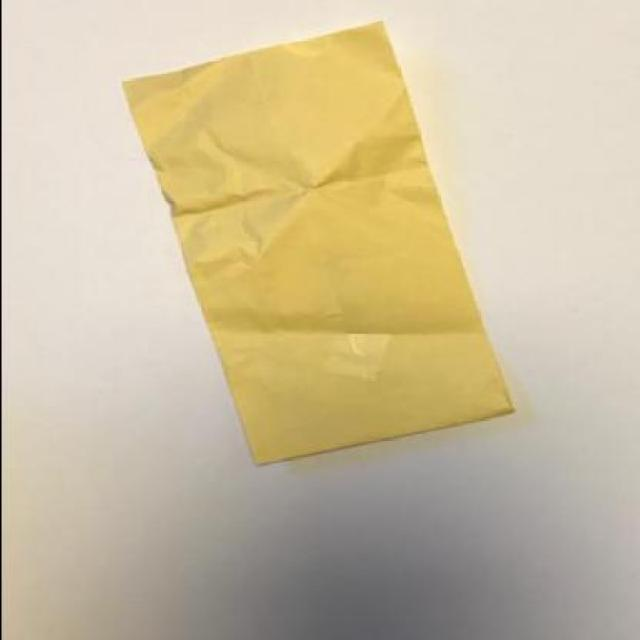PAPER: (118, 20, 508, 466)
